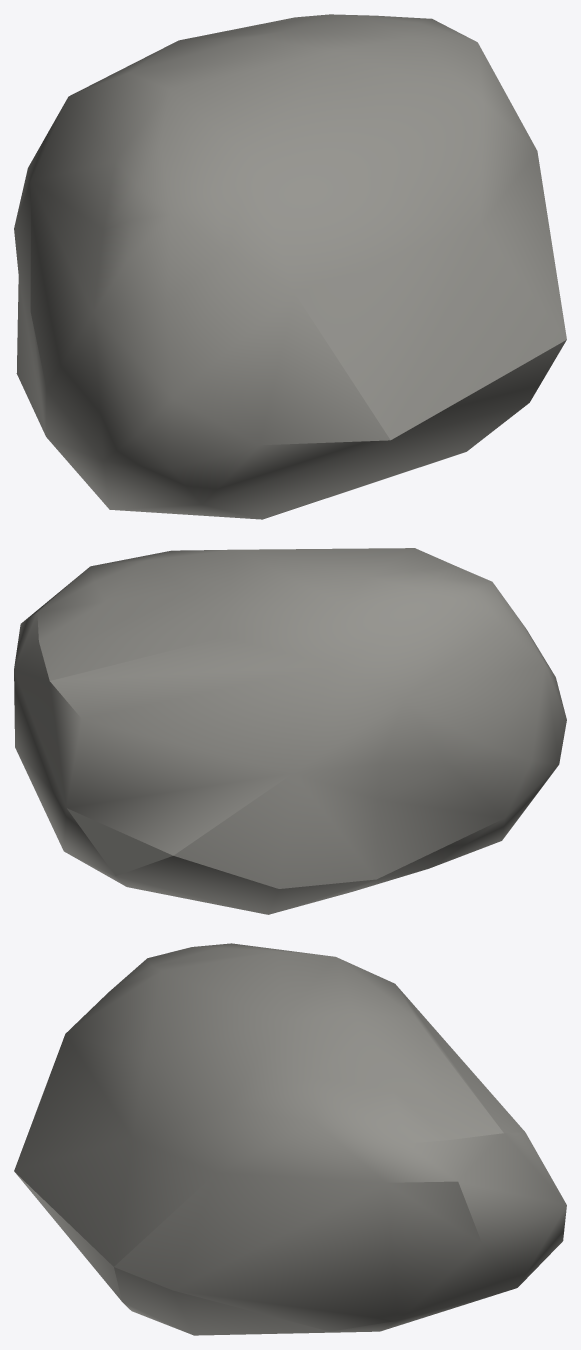
The model's file is Sm_Rocks8L.fbx.
3 renders of one model, top to bottom at view 1: azimuth 30°, elevation 25°; view 2: azimuth 150°, elevation 25°; view 3: azimuth 270°, elevation 25°, orthographic. The views are drawn at different scales.
Visible parts, largest first — view 1: Sm_Rocks8L; view 2: Sm_Rocks8L; view 3: Sm_Rocks8L.
Boxes of the visible parts, left/top/right/bottom form: Sm_Rocks8L: left=14, top=14, right=566, bottom=519; Sm_Rocks8L: left=14, top=548, right=566, bottom=914; Sm_Rocks8L: left=14, top=943, right=566, bottom=1335.
Bounding box in the file's own units: 125 × 83.41 × 137.
